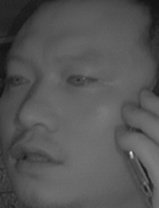eye: (66, 69, 98, 92), (6, 69, 32, 88)
mouth: (10, 138, 64, 177)
